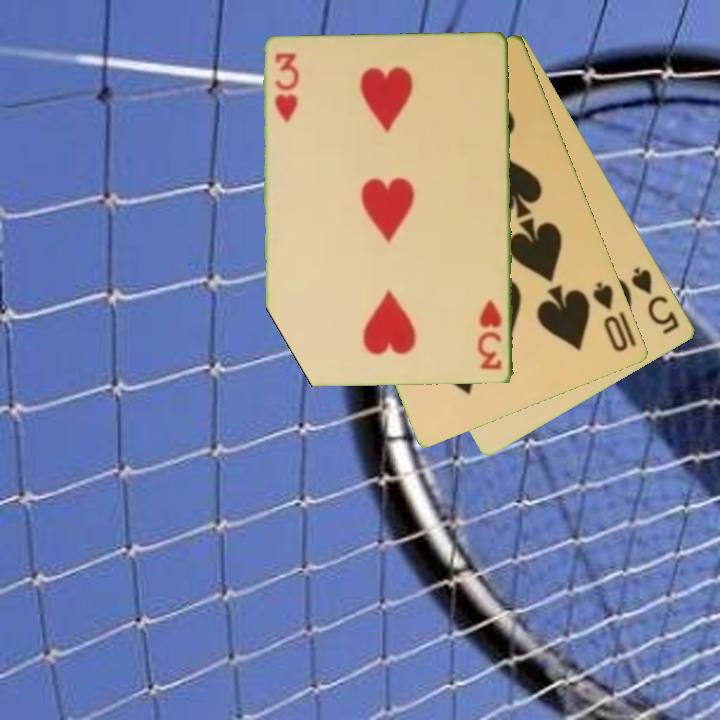10s: (589, 278, 632, 355)
3h: (475, 296, 506, 373), (272, 49, 300, 126)
5s: (628, 263, 683, 338)
